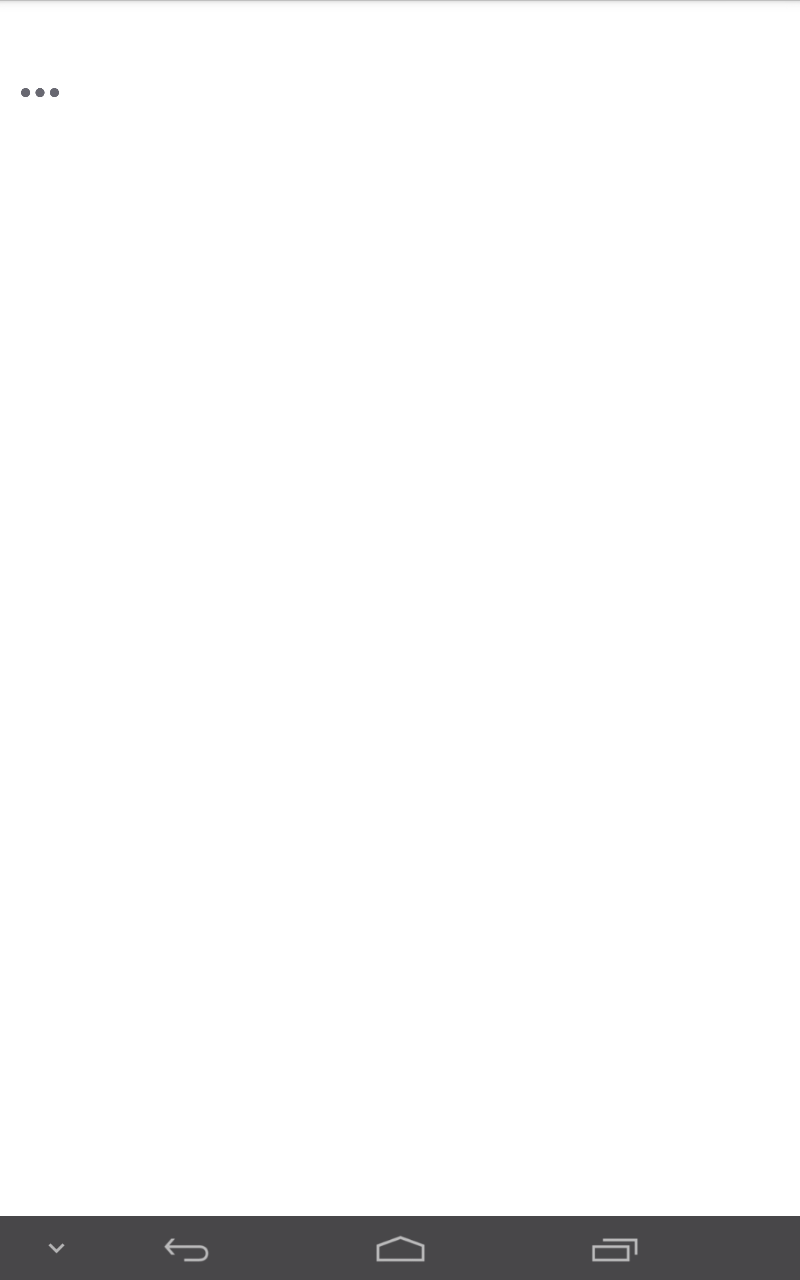imgbutton: (349, 1219, 452, 1277), (148, 1223, 230, 1277)
